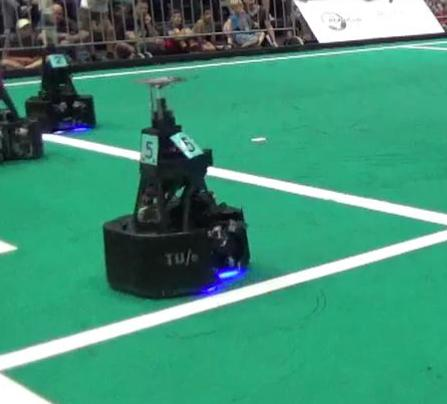robot: (99, 66, 257, 300), (18, 24, 102, 134)
